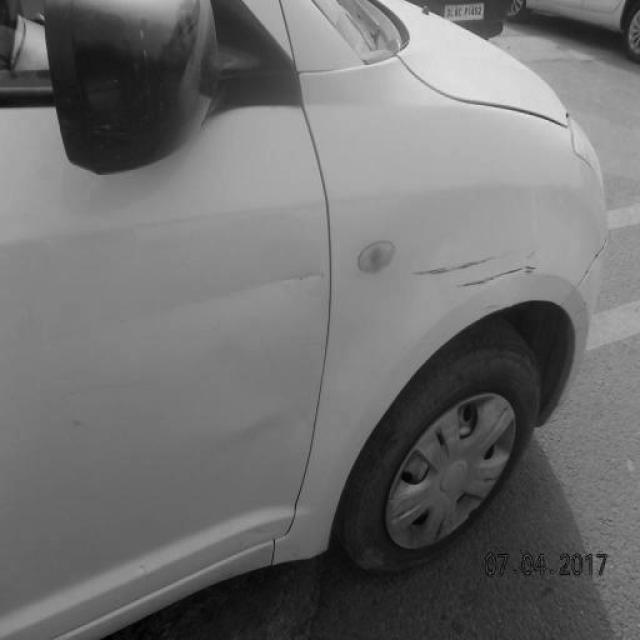car damage: (94, 262, 327, 335), (215, 346, 316, 469), (458, 249, 542, 291), (62, 377, 164, 403), (417, 248, 497, 281), (67, 415, 90, 431)
